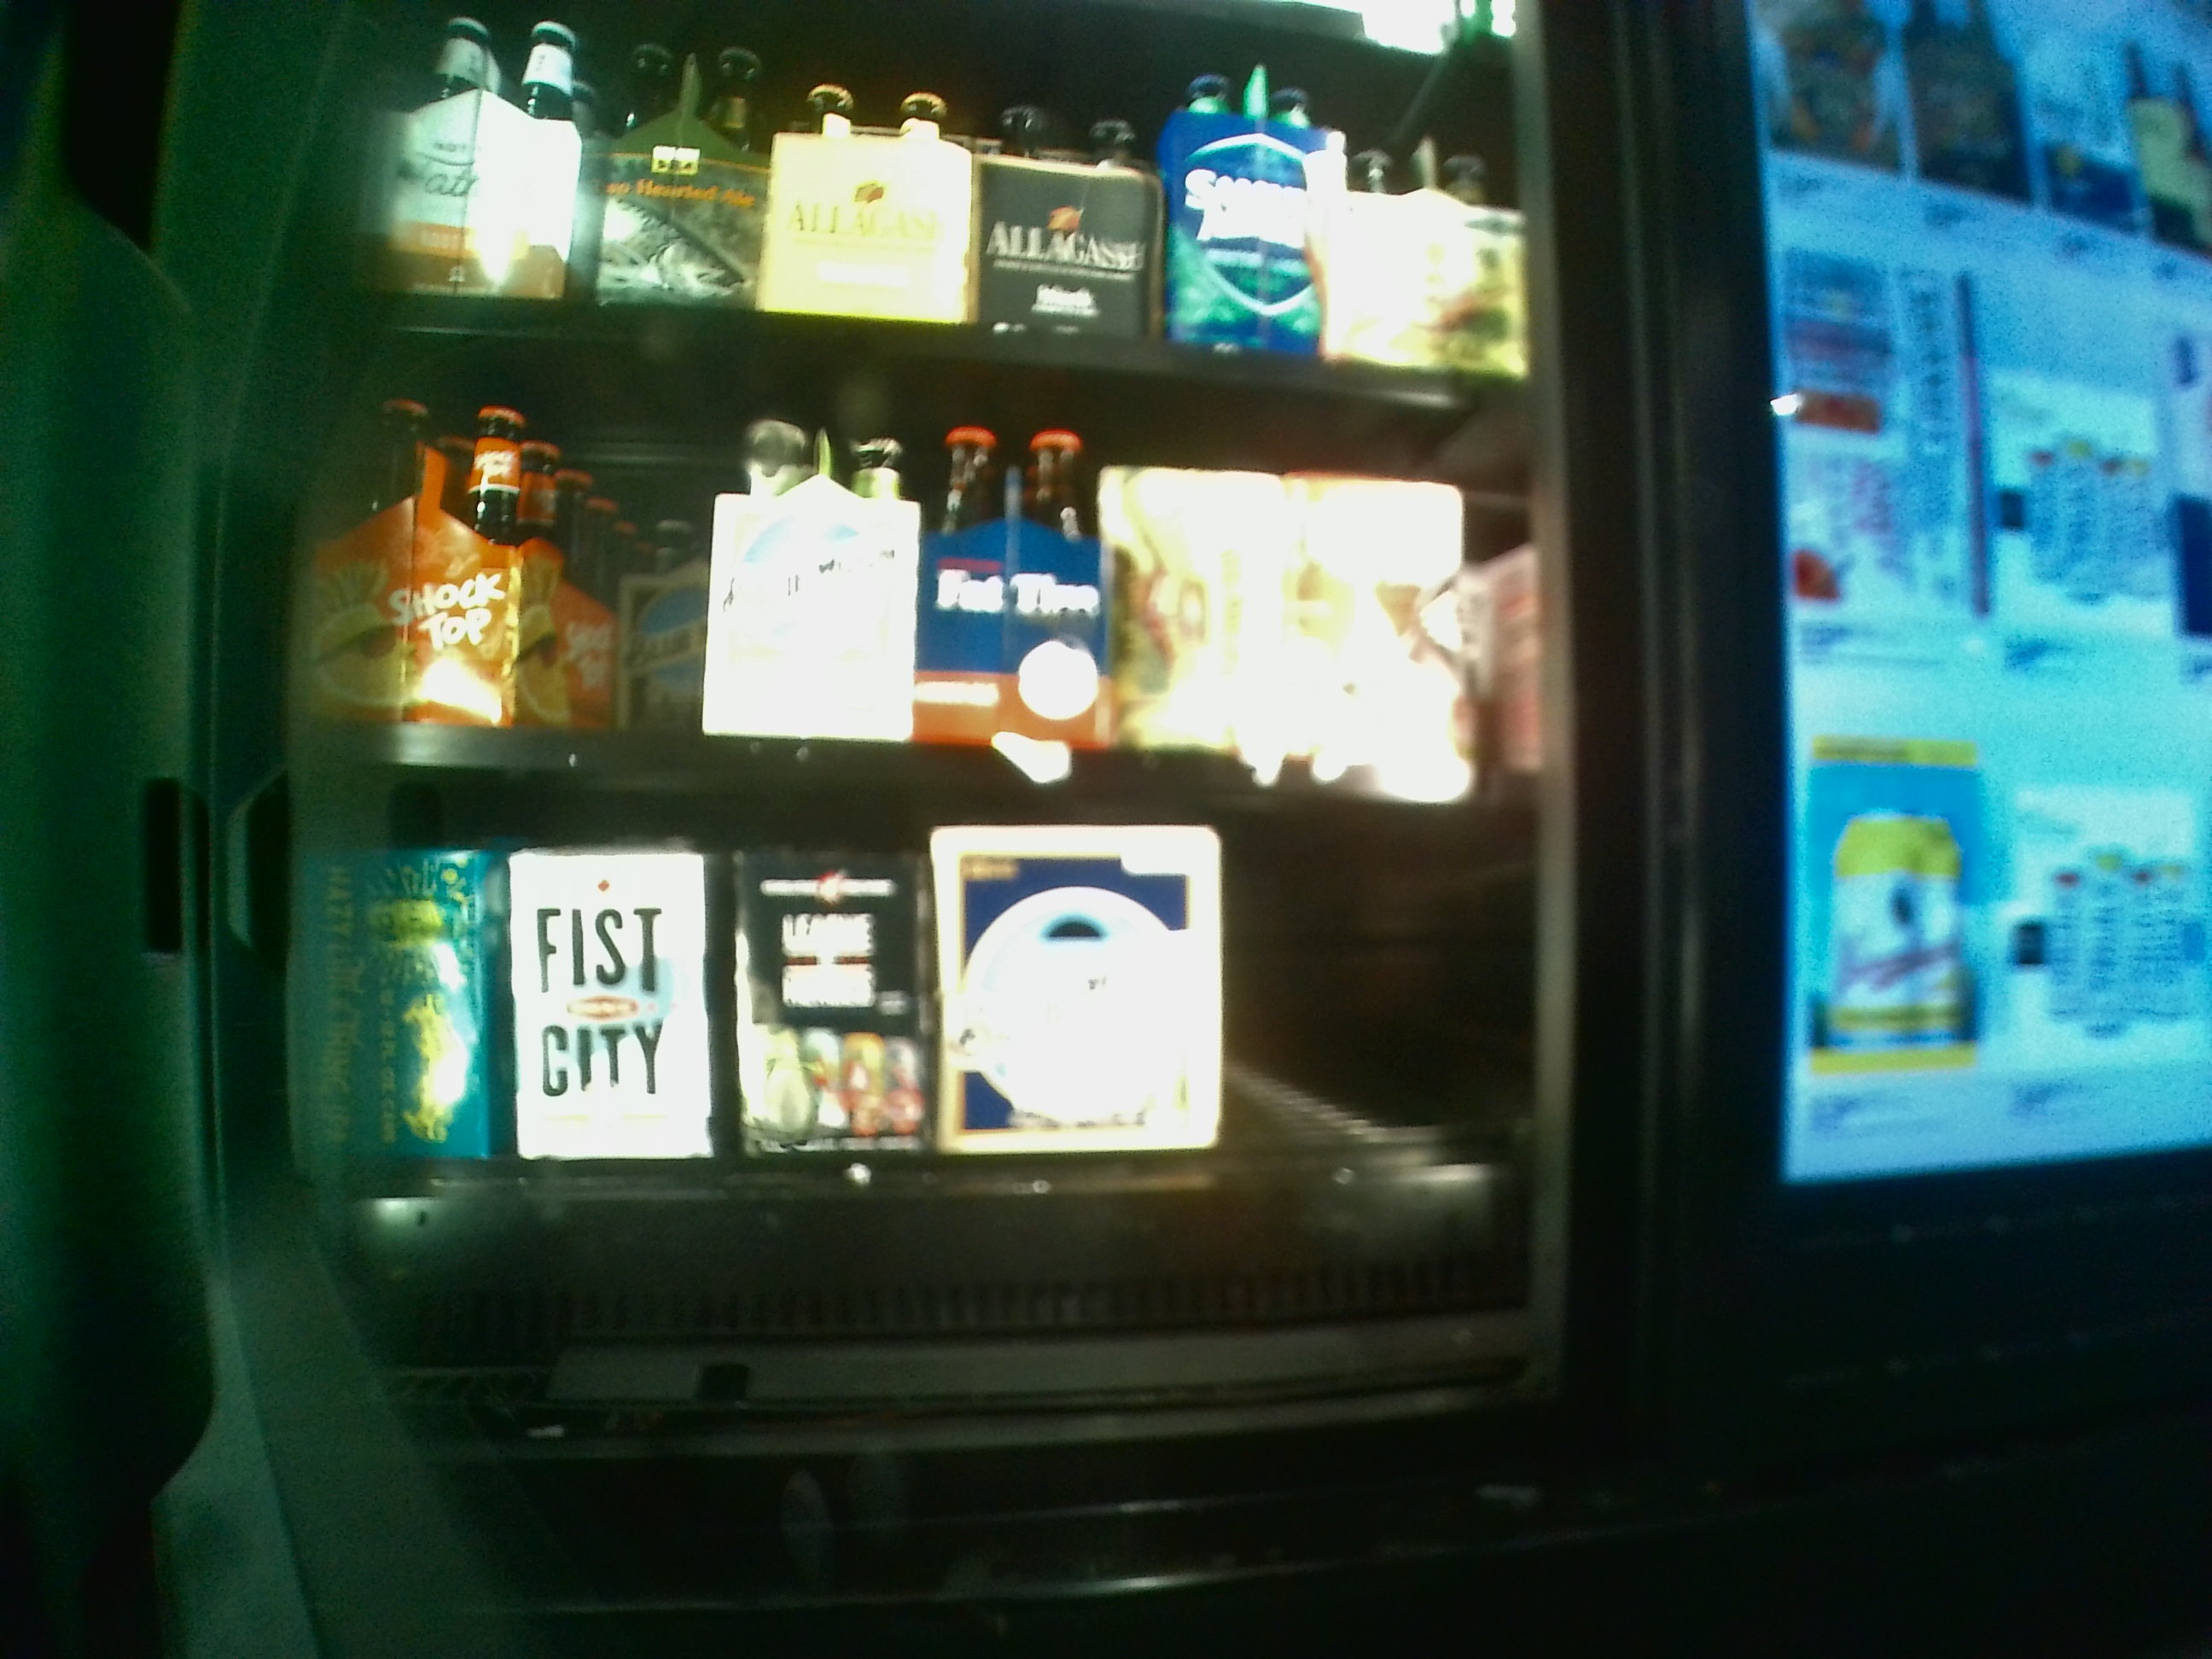shelf: (289, 809, 1536, 1368), (294, 335, 1526, 788)
